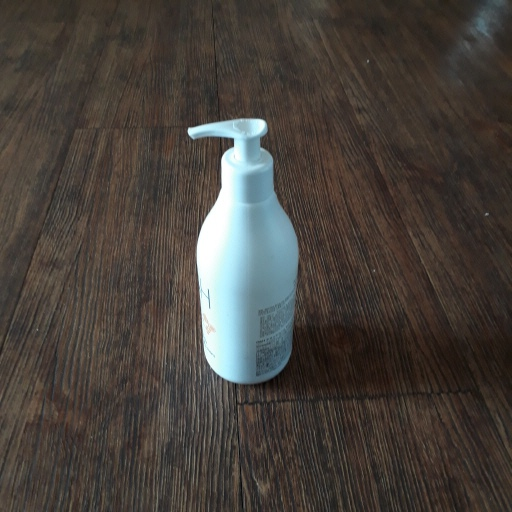Plastic_3: (185, 118, 304, 384)
